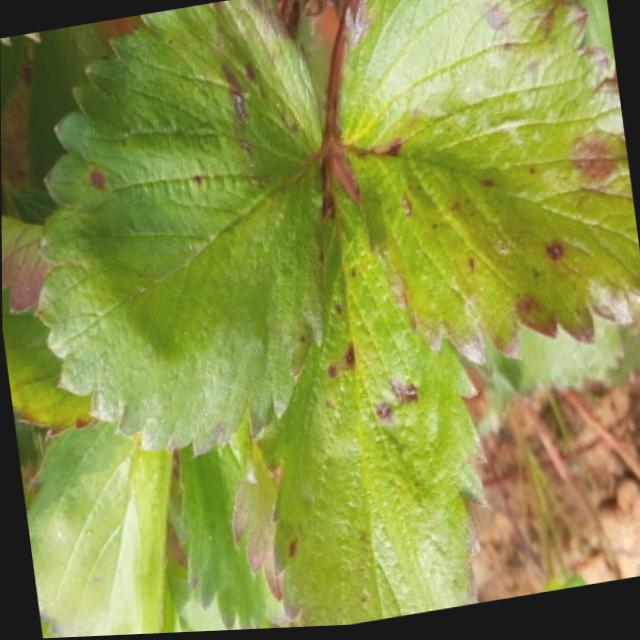Leaf Spot: (32, 0, 326, 459), (259, 146, 489, 630), (337, 0, 640, 366)
